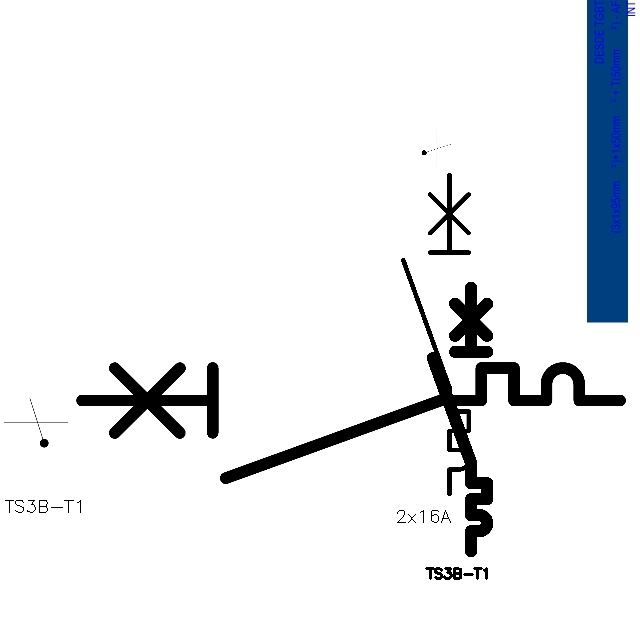interruptor_termomagnetico: (68, 354, 634, 492), (395, 166, 477, 501), (426, 281, 494, 558)
